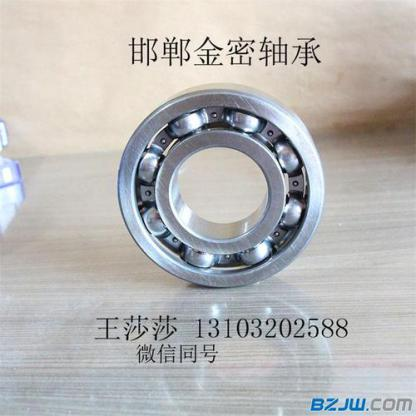FOD: (115, 84, 326, 291)
